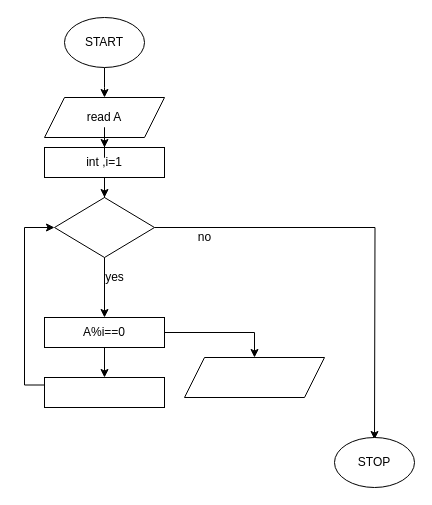
Some shapes in this 432 by 505 pixel diagram are drawn without their labels. Here are the shapes that lost their labels. From the top down, the box of each, then its label:
(54, 196, 154, 258): while(i<=A)
(44, 376, 164, 408): i++
(184, 356, 324, 398): print i
